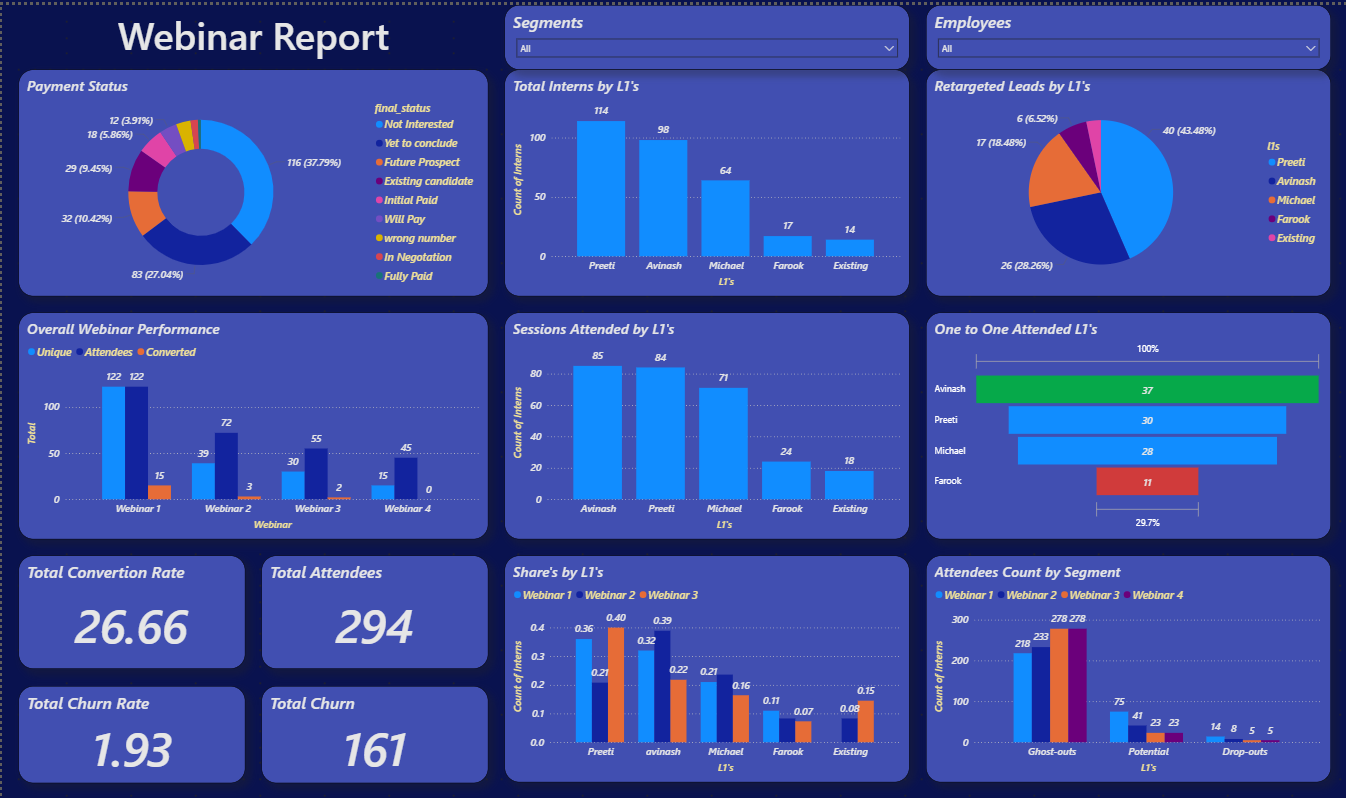

The dashboard page shown, as its layout file describes it:
{"tool":"powerbi","page":{"name":"Page 1","canvas":[2000,1177],"ordinal":0},"visuals":[{"type":"donutChart","title":"Payment Status","fields":{"Category":["Final Sheet.final_status"],"Y":["CountNonNull(Final Sheet.final_status)"]},"box":[24,96,696,336],"z":0},{"type":"columnChart","title":"Total Interns by L1''s","fields":{"Category":["Final Sheet.l1s"],"Y":["CountNonNull(Final Sheet.interns)"]},"box":[744,96,600,336],"z":1000},{"type":"funnel","title":"One to One Attended L1''s","fields":{"Category":["Final Sheet.l1s"],"Y":["CountNonNull(Final Sheet.one_to_one_attended)"]},"box":[1368,456,600,336],"z":2000},{"type":"pieChart","title":"Retargeted Leads by L1''s","fields":{"Category":["Final Sheet.l1s"],"Y":["CountNonNull(Final Sheet.retargeted_lead)"]},"box":[1368,96,600,336],"z":3000},{"type":"columnChart","title":"Sessions  Attended by L1''s","fields":{"Category":["Final Sheet.l1s"],"Y":["Sum(Final Sheet.number_of_sessions_attended)"]},"box":[744,456,600,336],"z":4000},{"type":"clusteredColumnChart","title":"Overall Webinar Performance","fields":{"Y":["Sum(Overall Webinar Performance.Unique)","Sum(Overall Webinar Performance.Total Attendees)","Sum(Overall Webinar Performance.Converted)"],"Category":["Overall Webinar Performance.Webinar"]},"box":[24,456,696,336],"z":5000},{"type":"card","title":"Total Convertion Rate","fields":{"Values":["Sum(Overall Webinar Performance.Conversion Rate (%))"]},"box":[24,816,336,168],"z":6000},{"type":"card","title":"Total Attendees","fields":{"Values":["Sum(Overall Webinar Performance.Total Attendees)"]},"box":[384,816,336,168],"z":6002},{"type":"card","title":"Total Churn","fields":{"Values":["Sum(total Churn.Total Churn)"]},"box":[384,1008,336,144],"z":6003},{"type":"card","title":"Total Churn Rate","fields":{"Values":["Sum(total Churn.Churn %)"]},"box":[24,1008,336,144],"z":6004},{"type":"clusteredColumnChart","title":"Attendees Count by Segment","fields":{"Category":["segment.segment"],"Y":["Sum(segment.w1 count)","Sum(segment.w2 Count)","Sum(segment.w3 Count)","Sum(segment.w4 Count)"]},"box":[1368,816,600,336],"z":6005},{"type":"clusteredColumnChart","title":"Share''s by L1''s","fields":{"Category":["L1 performence w3.L1 Name"],"Y":["Sum(L1 performence.% Share)","Sum(L1 performence w2.Percentage)","Sum(L1 performence w3.% Share)"]},"box":[744,816,600,336],"z":6006},{"type":"slicer","title":"Employees","fields":{"Values":["churn by l1 w2.L1 Name","churn by l1.L1 Name","churn by l1 w3.L1 Name","Final Sheet.l1s"]},"box":[1368,0,600,96],"z":6007},{"type":"slicer","title":"Segments","fields":{"Values":["segment.segment"]},"box":[744,0,600,96],"z":6008},{"type":"textbox","box":[24,0,696,96],"z":6009}]}

Visuals, with their boxes in screenshot pixels (x1, y1, x2, y2), scaled from the page's 2000x1177 canvas onto the 1346x798 screenshot:
"Payment Status" donutChart: <bbox>16, 65, 485, 293</bbox>
"Total Interns by L1''s" columnChart: <bbox>501, 65, 905, 293</bbox>
"One to One Attended L1''s" funnel: <bbox>921, 309, 1324, 537</bbox>
"Retargeted Leads by L1''s" pieChart: <bbox>921, 65, 1324, 293</bbox>
"Sessions  Attended by L1''s" columnChart: <bbox>501, 309, 905, 537</bbox>
"Overall Webinar Performance" clusteredColumnChart: <bbox>16, 309, 485, 537</bbox>
"Total Convertion Rate" card: <bbox>16, 553, 242, 667</bbox>
"Total Attendees" card: <bbox>258, 553, 485, 667</bbox>
"Total Churn" card: <bbox>258, 683, 485, 781</bbox>
"Total Churn Rate" card: <bbox>16, 683, 242, 781</bbox>
"Attendees Count by Segment" clusteredColumnChart: <bbox>921, 553, 1324, 781</bbox>
"Share''s by L1''s" clusteredColumnChart: <bbox>501, 553, 905, 781</bbox>
"Employees" slicer: <bbox>921, 0, 1324, 65</bbox>
"Segments" slicer: <bbox>501, 0, 905, 65</bbox>
textbox: <bbox>16, 0, 485, 65</bbox>
